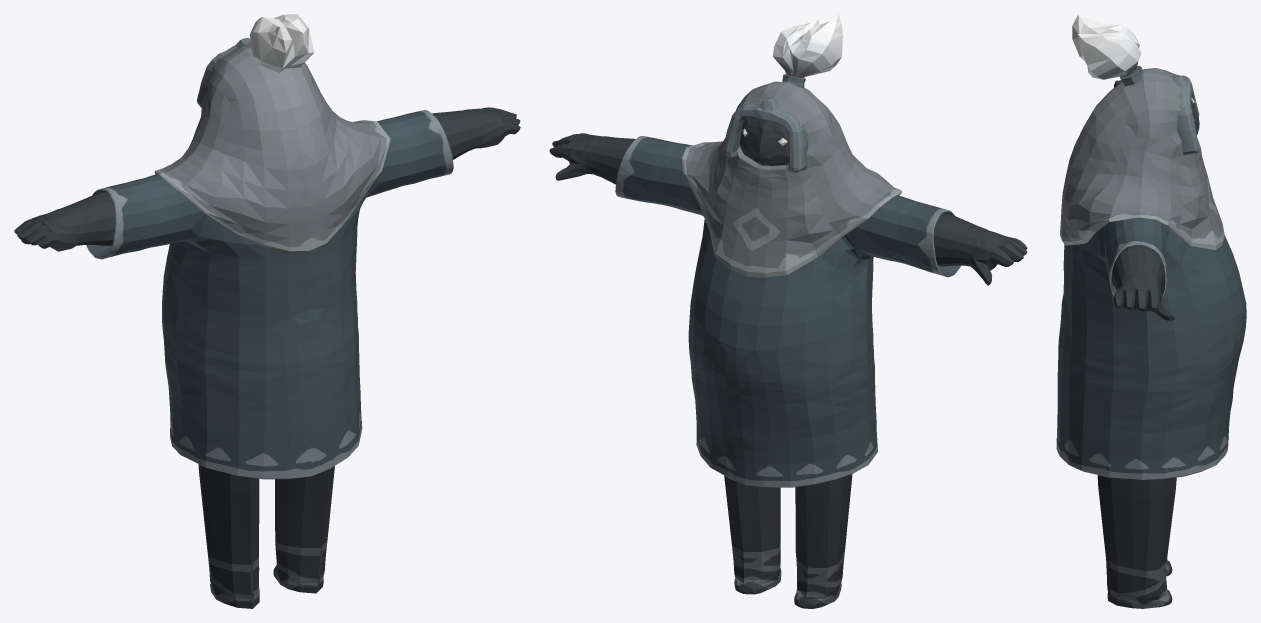
Rendered from CharSkyNPC_Body_FatLaborChild.glb.
3 renders of one model, left to right at view 1: azimuth 30°, elevation 25°; view 2: azimuth 150°, elevation 25°; view 3: azimuth 270°, elevation 25°, orthographic. The views are drawn at different scales.
Visible parts, largest first — view 1: CharSkyNPC_Body_FatLaborChild; view 2: CharSkyNPC_Body_FatLaborChild; view 3: CharSkyNPC_Body_FatLaborChild.
Boxes of the visible parts, x1,y1,x2,y2 form: CharSkyNPC_Body_FatLaborChild: (14,14,520,608); CharSkyNPC_Body_FatLaborChild: (549,14,1027,608); CharSkyNPC_Body_FatLaborChild: (1056,14,1246,608).
Size of the model in its own units: 14.05 by 15.93 by 4.87.
Materials: 1 (1 with a texture image).
